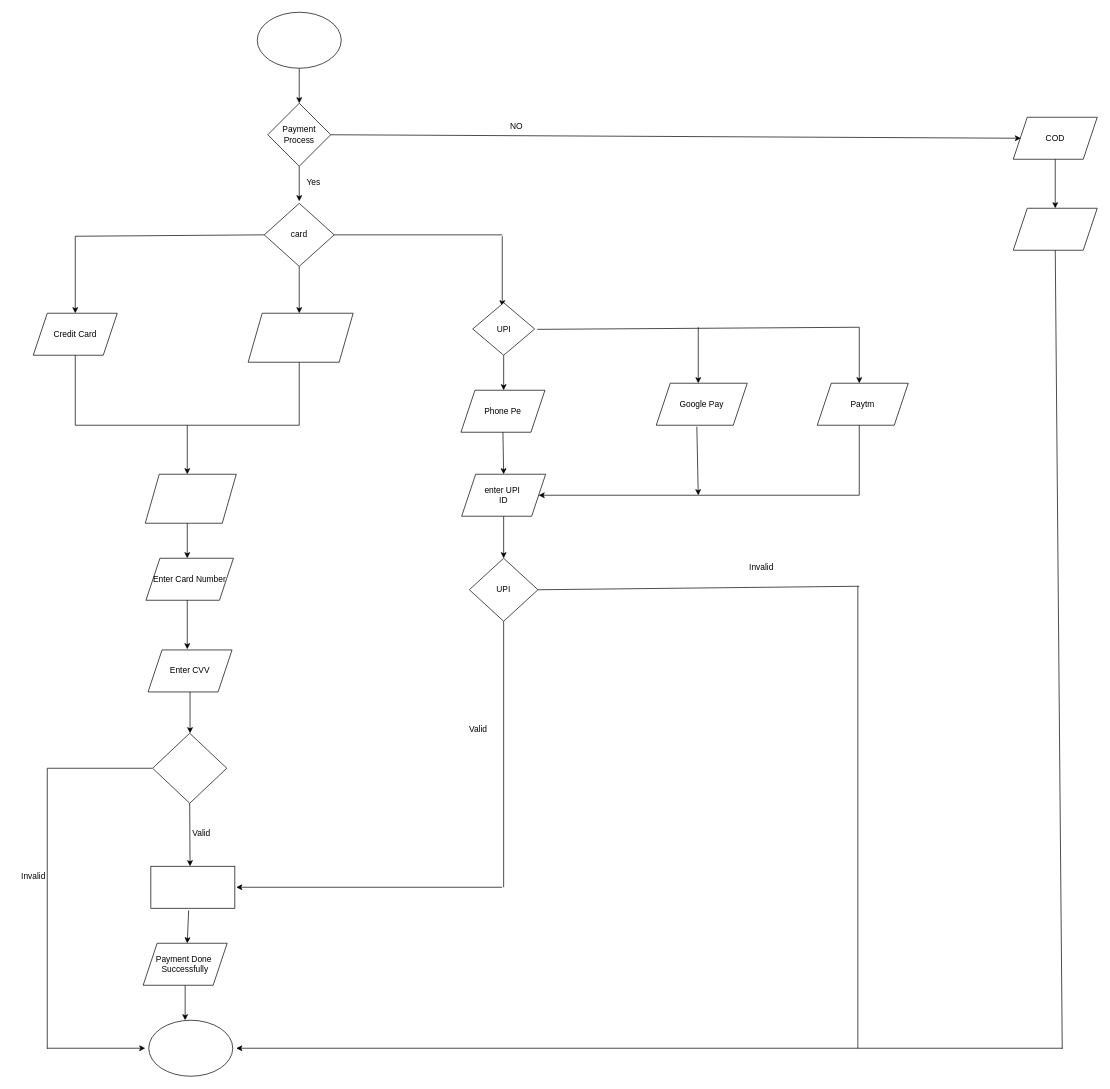
The diagram is 1110 pixels wide and 1089 high, and some of its shapes have lost their labels. The centre of each missing label's shape, as x and y in pixels:
"Check CVV" goes at point (189, 768).
"Debit Card" goes at point (300, 337).
"Enter Card Name" goes at point (190, 498).
"enter details" goes at point (1055, 229).
"Processing the Payment" goes at point (192, 887).
"start" goes at point (299, 40).
"stop" goes at point (190, 1048).
